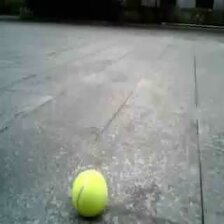tennis: (73, 169, 109, 214)
